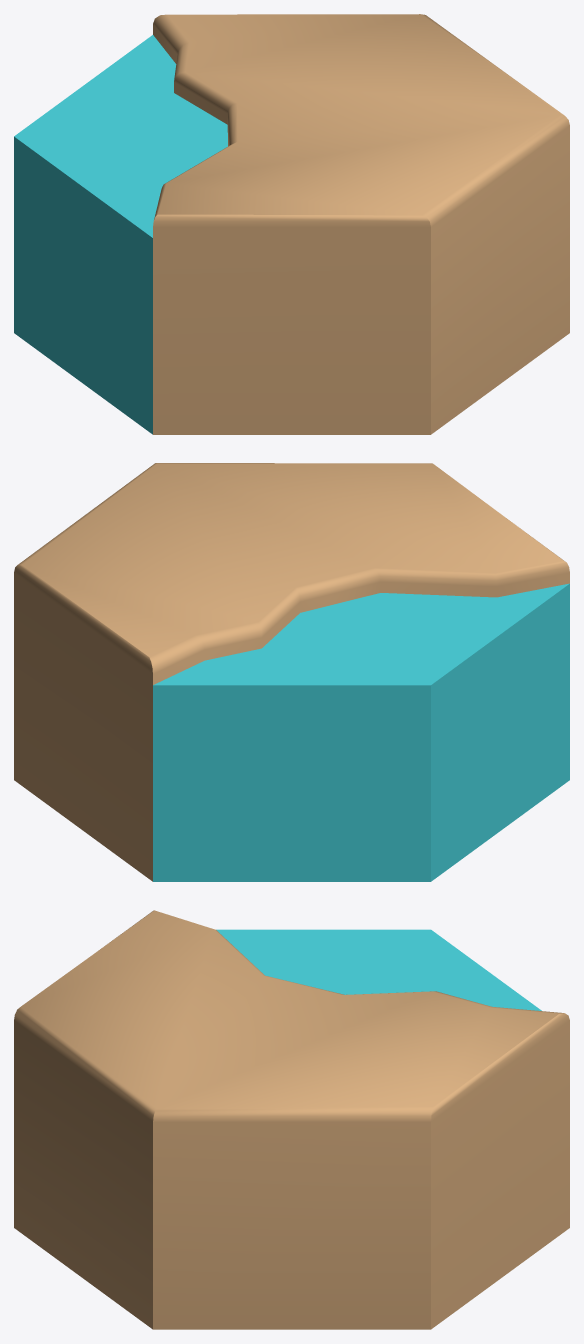
File: hex_sand_waterD.glb
3 renders of one model, top to bottom at view 1: azimuth 30°, elevation 25°; view 2: azimuth 150°, elevation 25°; view 3: azimuth 270°, elevation 25°, orthographic.
Parts seen in each view (by area): view 1: hex_sand_waterD; view 2: hex_sand_waterD; view 3: hex_sand_waterD.
Part boxes in pixels (x1,y1,x2,y2): hex_sand_waterD: [14, 14, 569, 434]; hex_sand_waterD: [14, 463, 569, 881]; hex_sand_waterD: [14, 910, 569, 1329].
Size of the model in its own units: 3.82 by 1.91 by 4.41.
